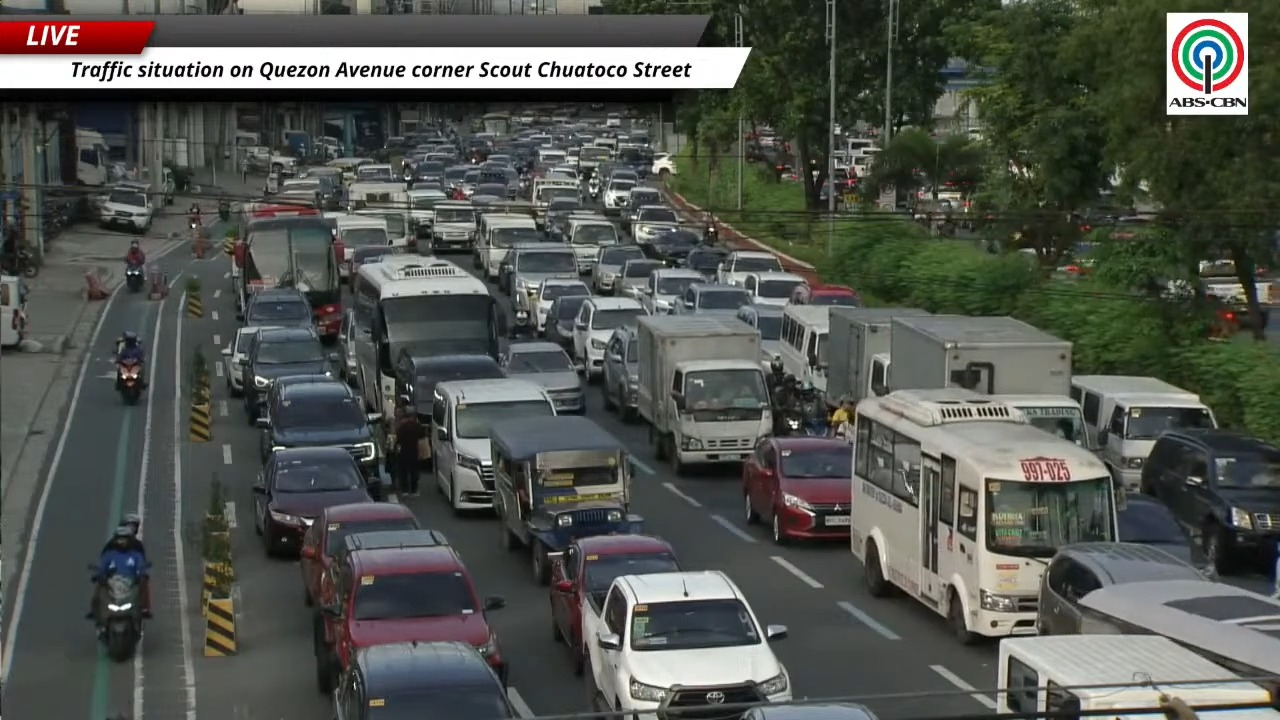bus: (849, 389, 1116, 643), (352, 256, 504, 417), (234, 204, 341, 340)
car: (583, 571, 791, 715), (315, 542, 506, 688), (1140, 428, 1279, 574), (550, 534, 682, 674), (429, 378, 555, 514), (1037, 542, 1210, 634), (334, 642, 518, 719), (253, 447, 372, 554), (300, 502, 419, 606), (257, 376, 380, 474), (743, 437, 852, 543), (314, 527, 447, 607), (241, 327, 336, 425), (395, 348, 505, 426), (1117, 493, 1215, 577), (395, 349, 505, 413), (499, 341, 585, 413), (573, 297, 647, 380), (499, 243, 578, 297), (601, 326, 639, 422), (561, 215, 619, 274), (532, 278, 591, 334), (640, 268, 704, 314), (99, 184, 155, 234), (242, 288, 313, 327), (736, 305, 782, 365), (671, 283, 751, 317), (591, 244, 644, 294), (221, 327, 259, 396), (543, 296, 590, 349), (717, 250, 784, 285), (642, 228, 701, 266), (741, 703, 878, 719), (742, 272, 804, 306), (614, 258, 664, 300), (619, 185, 662, 231), (631, 205, 678, 243), (544, 199, 584, 242), (683, 245, 728, 281), (338, 309, 358, 385), (792, 284, 860, 306), (351, 246, 398, 276), (601, 179, 636, 215), (651, 153, 676, 178)
motorcycle: (98, 575, 142, 661), (117, 357, 142, 404), (0, 247, 38, 277), (797, 403, 829, 436), (125, 263, 144, 292), (702, 224, 718, 246), (588, 175, 600, 200), (218, 201, 230, 221)
truck: (583, 571, 791, 718), (885, 314, 1095, 450), (637, 314, 771, 473), (889, 315, 1072, 396), (826, 306, 930, 404), (75, 127, 110, 186)
